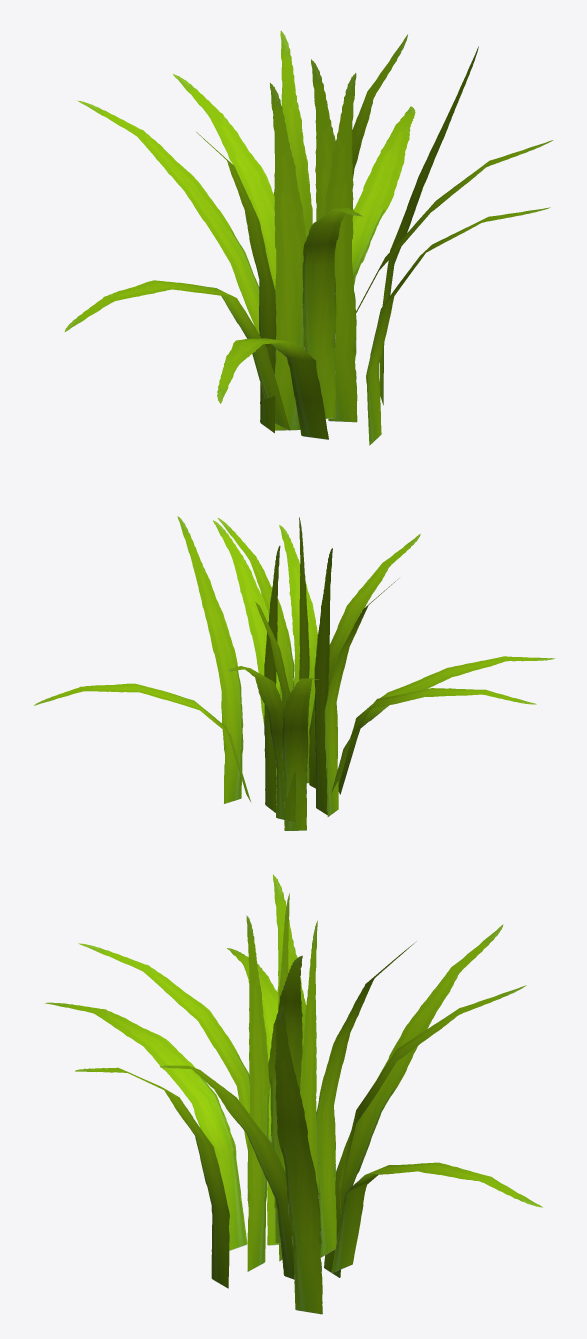
The model's file is Grass Small.fbx.
3 renders of one model, top to bottom at view 1: azimuth 30°, elevation 25°; view 2: azimuth 150°, elevation 25°; view 3: azimuth 270°, elevation 25°, orthographic. The views are drawn at different scales.
Parts seen in each view (by area): view 1: group1_pPlane2; view 2: group1_pPlane2; view 3: group1_pPlane2.
Part boxes in pixels (x1=…): group1_pPlane2: x1=64, y1=30, x2=553, y2=445; group1_pPlane2: x1=34, y1=516, x2=555, y2=830; group1_pPlane2: x1=45, y1=874, x2=542, y2=1314.
Size of the model in its own units: 0.0163 by 0.0106 by 0.0137.
Materials: 15 (15 with a texture image).
